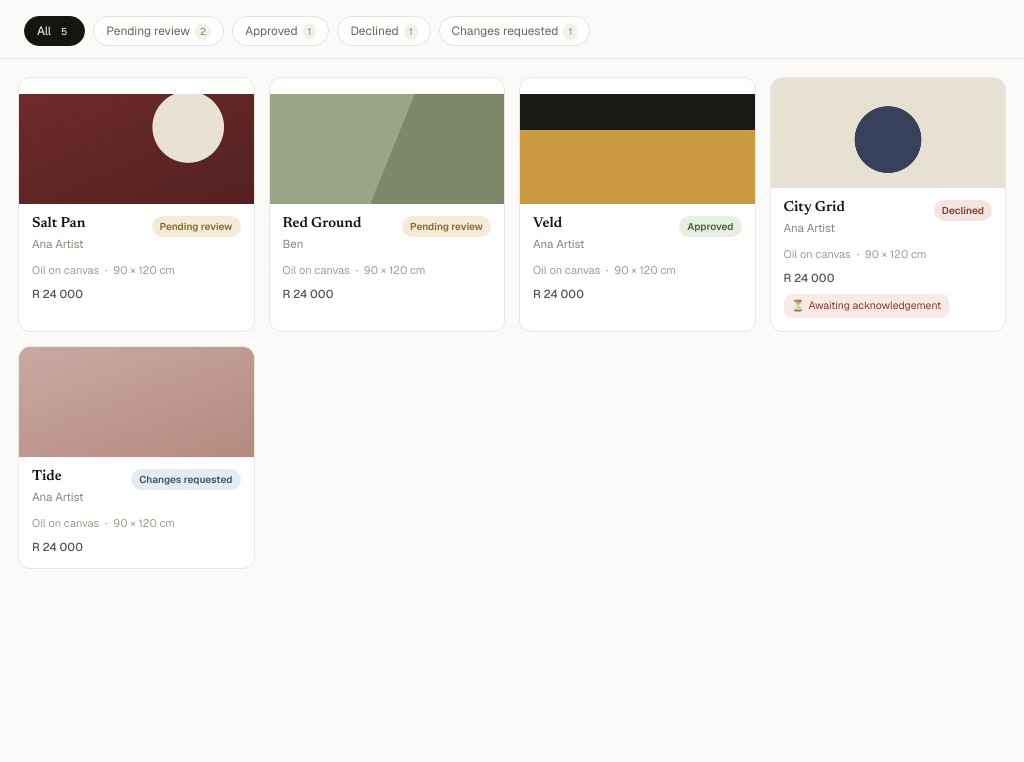
SubmissionsPanel reviewing › requests changes with a note
The width and height of the screenshot is (1024, 762).
Click the text "Salt Pan" at (59, 224), box [32, 215, 85, 233]
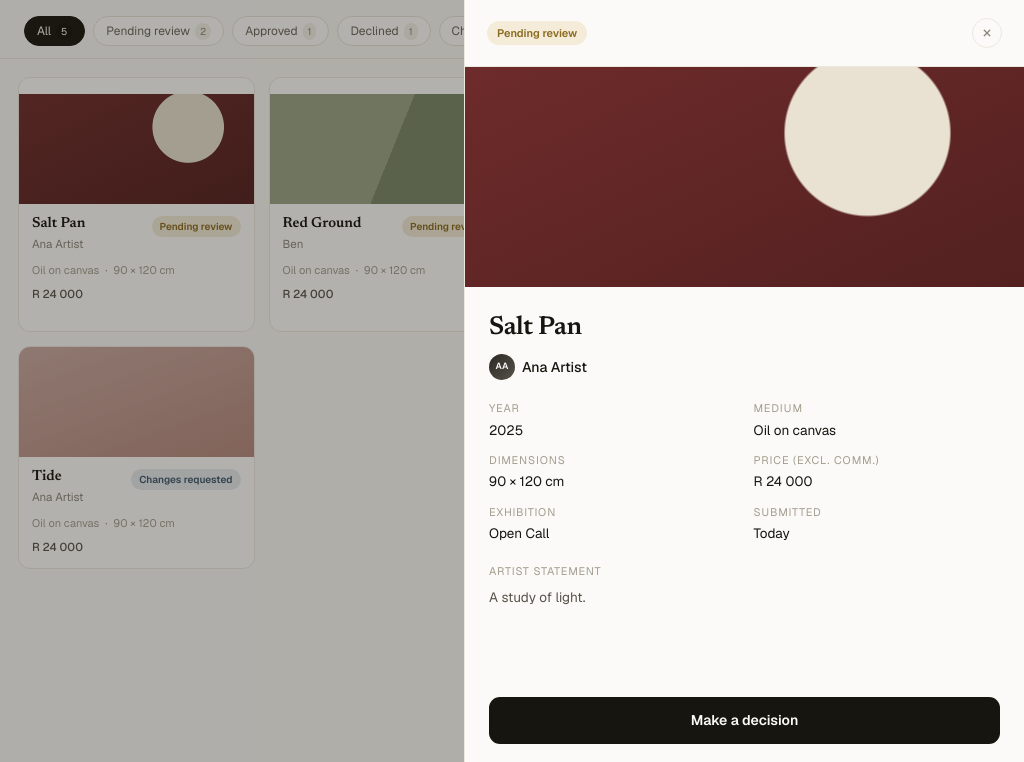
Click the button "Make a decision" at (744, 720), box [489, 697, 1000, 744]
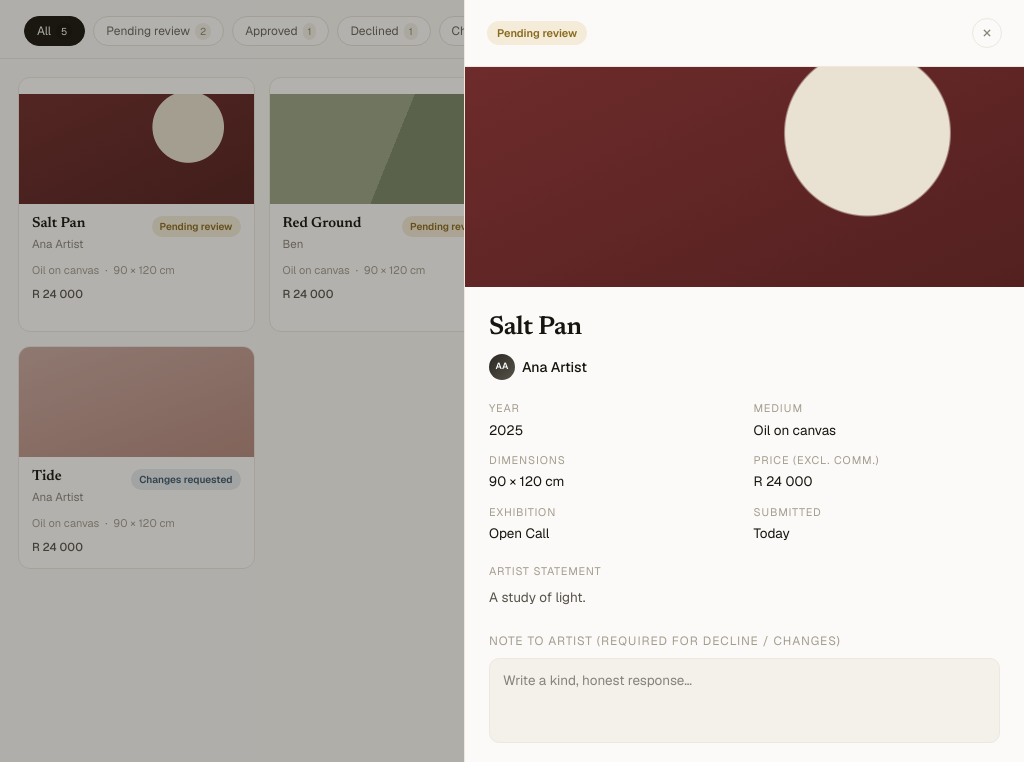
Type "Crop" into the text box with placeholder "Write a kind, honest response…" at (744, 700), box [489, 658, 1000, 743]
(page scrolled)
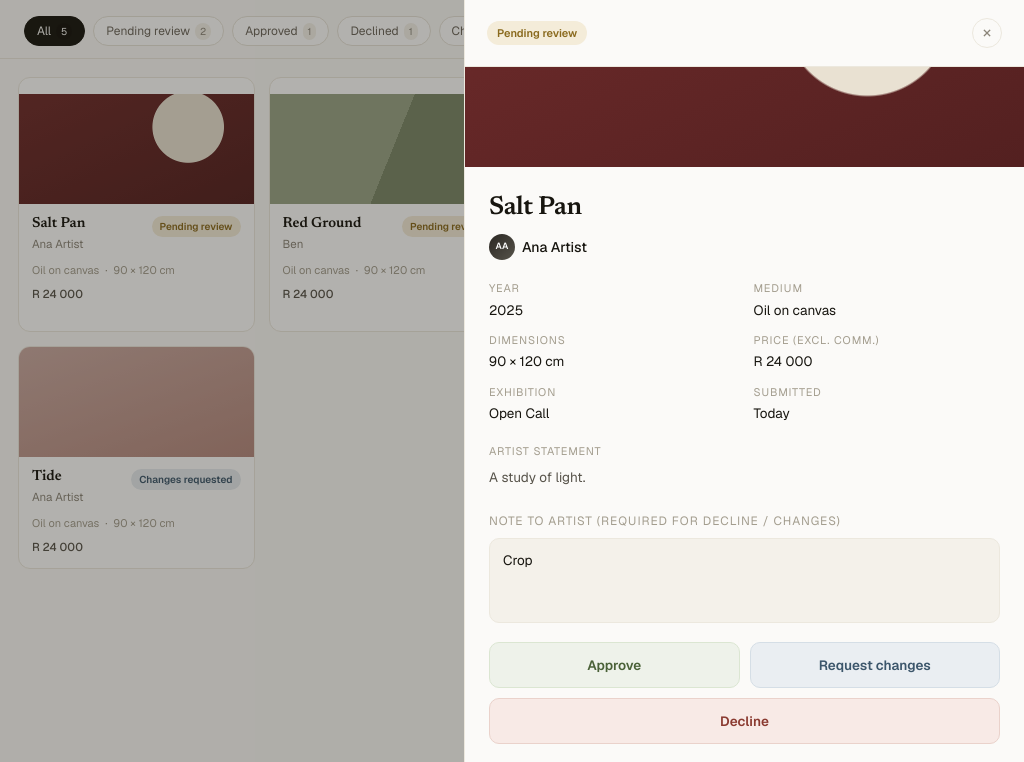
Click the button "Request changes" at (875, 665), box [750, 642, 1000, 688]
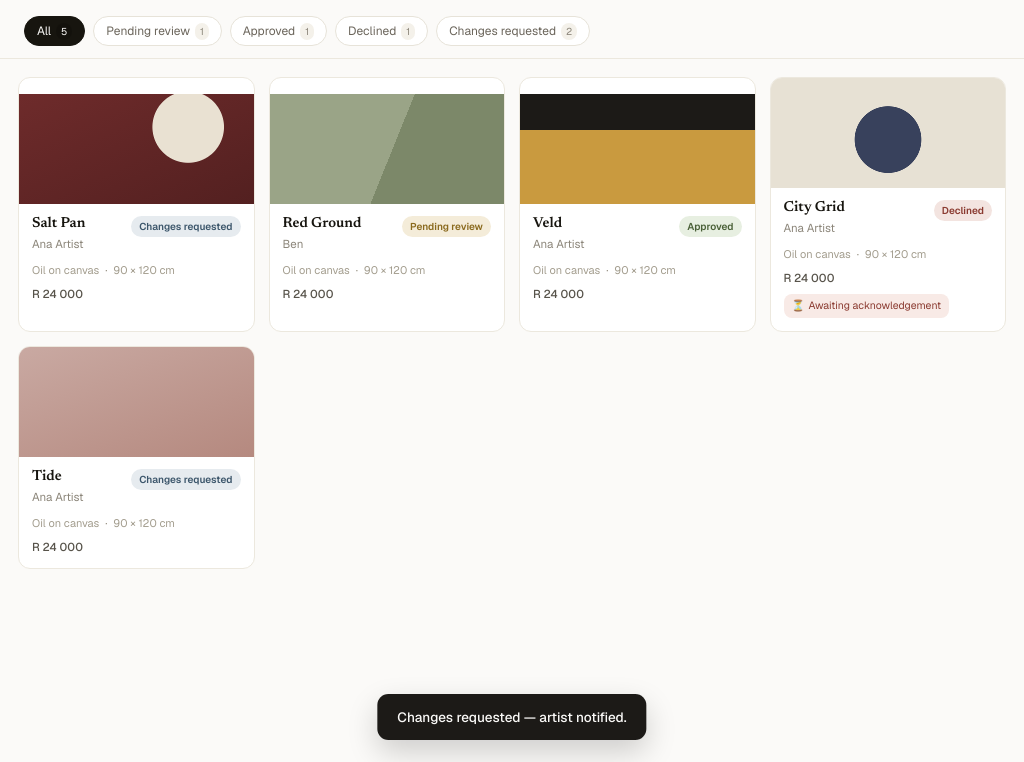
Result: the text "Changes requested — artist notified." is shown at [377, 694, 647, 740]
